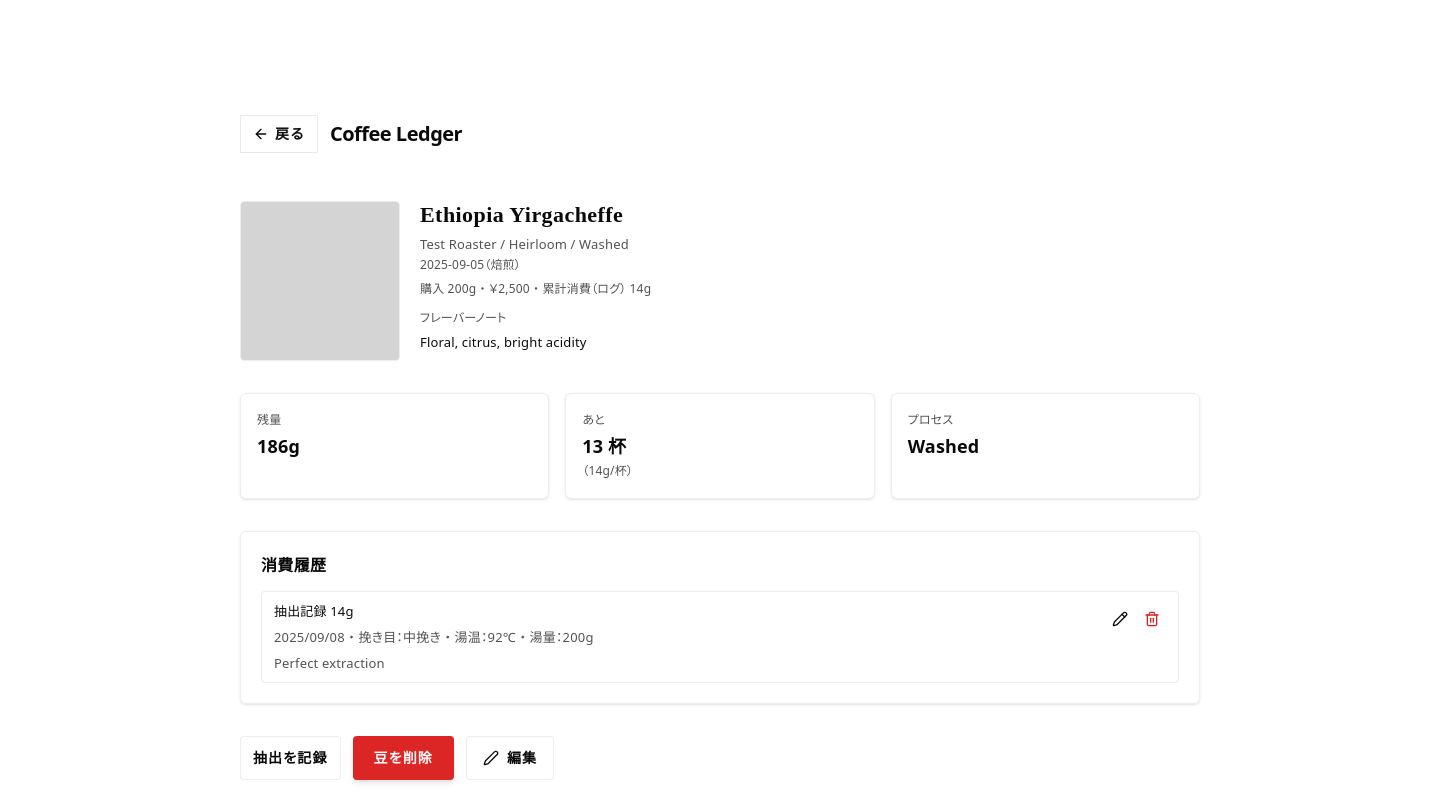
Test: DetailPage › Consume Log Edit/Delete › should open edit modal when edit button clicked
The image size is (1440, 810).
Check: the heading "消費履歴" is shown, box [261, 557, 326, 574]
Use exact name to avoid matching "バッグを編集"
Step 1. Click the button named "抽出記録を編集" → coordinates (1120, 619), box [1106, 600, 1134, 638]
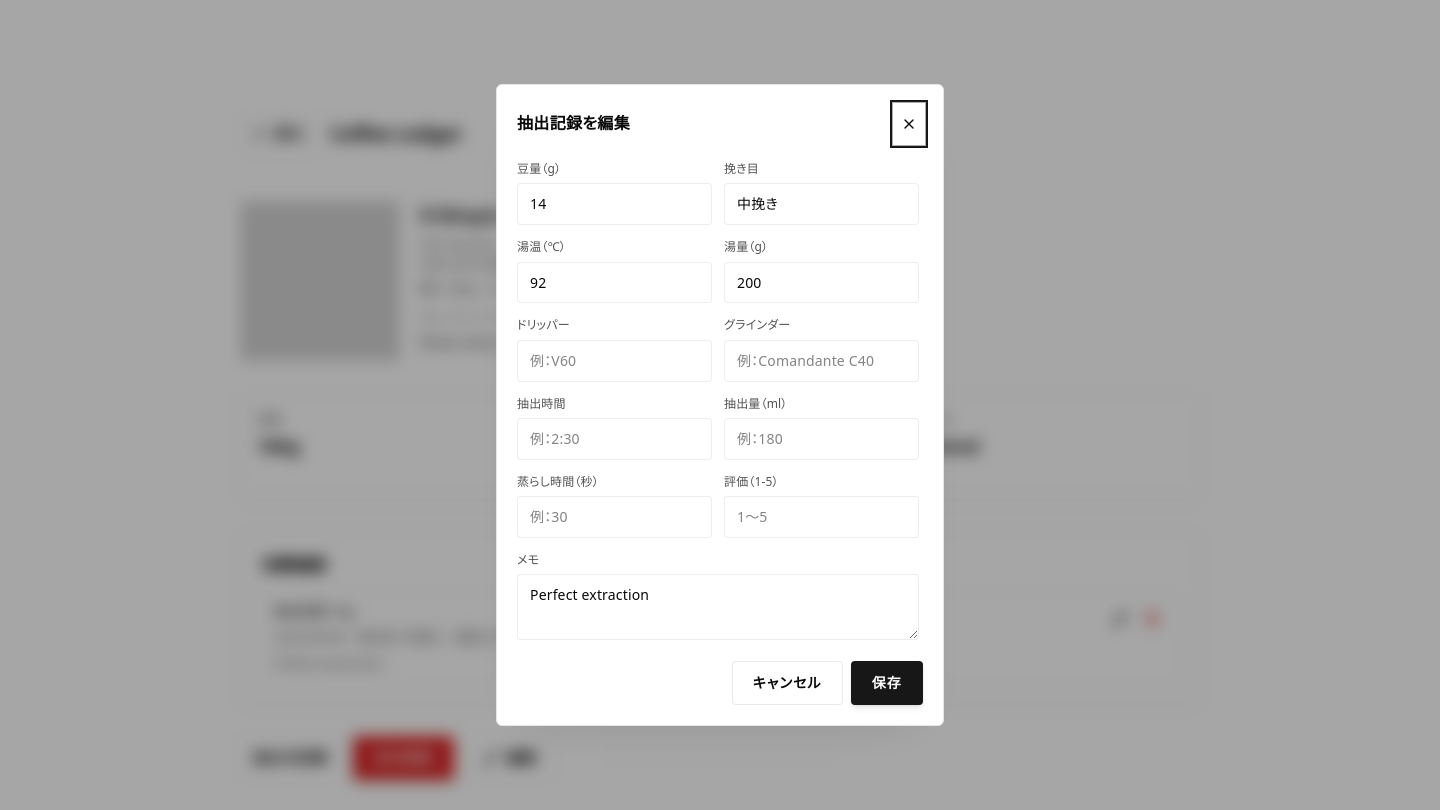
Check: the heading "抽出記録を編集" is shown, box [517, 110, 630, 138]
